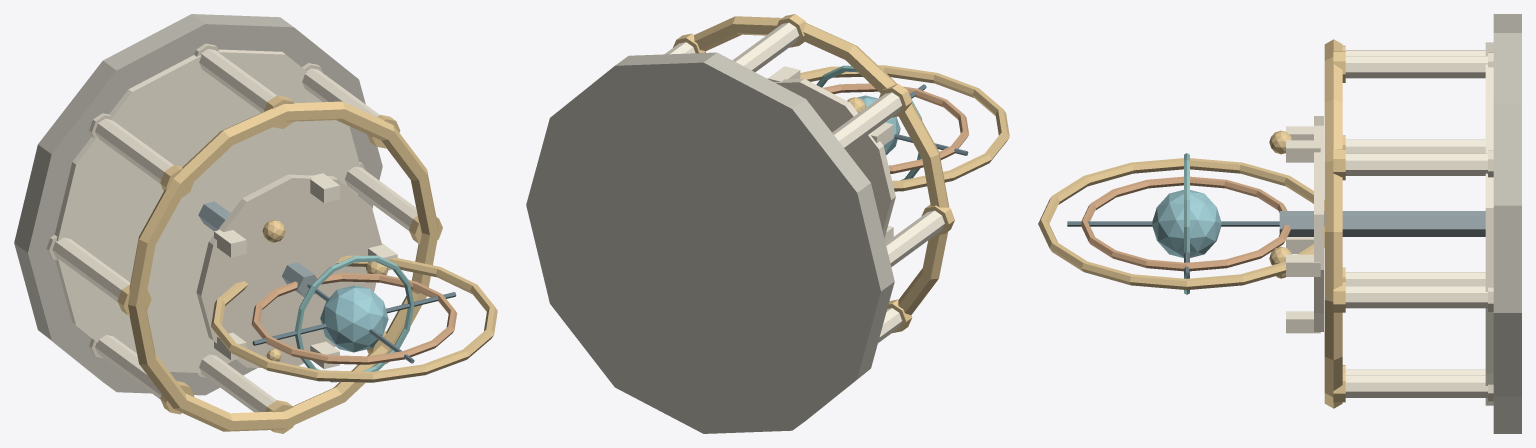
Rendered from astral_observatory_explorer.glb.
3 views of the same model, side by side, from view 1: azimuth 30°, elevation 25°; view 2: azimuth 150°, elevation 25°; view 3: azimuth 270°, elevation 25° (orthographic). The views are drawn at different scales.
Parts seen in each view (by area): view 1: InnerPlinth_0001, OuterPlinth_0000, ObservationDeck_0037, BrassRotundaRing_0026, AstrolabeGreatRing_0027, AstrolabeInnerRing_0028, HeartOfObservatory_0034, ObservatoryColumn_0017, ObservatoryColumn_0014, ObservatoryColumn_0020, ObservatoryColumn_0002, AstrolabeRotatingAxis_0029 (+6 smaller); view 2: OuterPlinth_0000, BrassRotundaRing_0026, ObservationDeck_0037, AstrolabeGreatRing_0027, ObservatoryColumn_0017, AstrolabeInnerRing_0028, ObservatoryColumn_0014, ObservatoryColumn_0020, AstrolabeRotatingAxis_0029; view 3: OuterPlinth_0000, AstrolabeGreatRing_0027, BrassRotundaRing_0026, PrimaryInstrumentColumn_0036, AstrolabeInnerRing_0028, HeartOfObservatory_0034, ObservatoryColumn_0023, ObservatoryColumn_0002, ObservatoryColumn_0005, ObservatoryColumn_0020, InnerPlinth_0001, ObservatoryColumn_0014 (+9 smaller).
Boxes of the visible parts, x1=… form: InnerPlinth_0001: x1=54, y1=49, x2=360, y2=372; OuterPlinth_0000: x1=14, y1=14, x2=382, y2=395; ObservationDeck_0037: x1=196, y1=174, x2=381, y2=367; BrassRotundaRing_0026: x1=128, y1=101, x2=438, y2=431; AstrolabeGreatRing_0027: x1=211, y1=255, x2=497, y2=382; AstrolabeInnerRing_0028: x1=251, y1=273, x2=457, y2=364; HeartOfObservatory_0034: x1=320, y1=285, x2=388, y2=352; ObservatoryColumn_0017: x1=95, y1=118, x2=173, y2=183; ObservatoryColumn_0014: x1=52, y1=237, x2=130, y2=301; ObservatoryColumn_0020: x1=199, y1=49, x2=276, y2=112; ObservatoryColumn_0002: x1=345, y1=166, x2=417, y2=230; AstrolabeRotatingAxis_0029: x1=295, y1=255, x2=414, y2=382; OuterPlinth_0000: x1=526, y1=52, x2=894, y2=433; BrassRotundaRing_0026: x1=694, y1=16, x2=949, y2=314; ObservationDeck_0037: x1=774, y1=78, x2=895, y2=238; AstrolabeGreatRing_0027: x1=800, y1=65, x2=1009, y2=191; ObservatoryColumn_0017: x1=832, y1=92, x2=902, y2=150; AstrolabeInnerRing_0028: x1=823, y1=83, x2=969, y2=173; ObservatoryColumn_0014: x1=885, y1=210, x2=944, y2=266; ObservatoryColumn_0020: x1=732, y1=22, x2=799, y2=72; AstrolabeRotatingAxis_0029: x1=816, y1=65, x2=922, y2=180; OuterPlinth_0000: x1=1493, y1=14, x2=1521, y2=433; AstrolabeGreatRing_0027: x1=1038, y1=158, x2=1324, y2=289; BrassRotundaRing_0026: x1=1324, y1=39, x2=1342, y2=408; PrimaryInstrumentColumn_0036: x1=1279, y1=211, x2=1485, y2=236; AstrolabeInnerRing_0028: x1=1081, y1=176, x2=1290, y2=271; HeartOfObservatory_0034: x1=1152, y1=190, x2=1221, y2=257; ObservatoryColumn_0023: x1=1345, y1=153, x2=1487, y2=175; ObservatoryColumn_0002: x1=1345, y1=286, x2=1487, y2=308; ObservatoryColumn_0005: x1=1345, y1=375, x2=1487, y2=397; ObservatoryColumn_0020: x1=1345, y1=56, x2=1487, y2=78; InnerPlinth_0001: x1=1485, y1=42, x2=1493, y2=405; ObservatoryColumn_0014: x1=1345, y1=139, x2=1485, y2=153.
Bounding box in the file's own units: 13.4 × 13.4 × 15.38.
